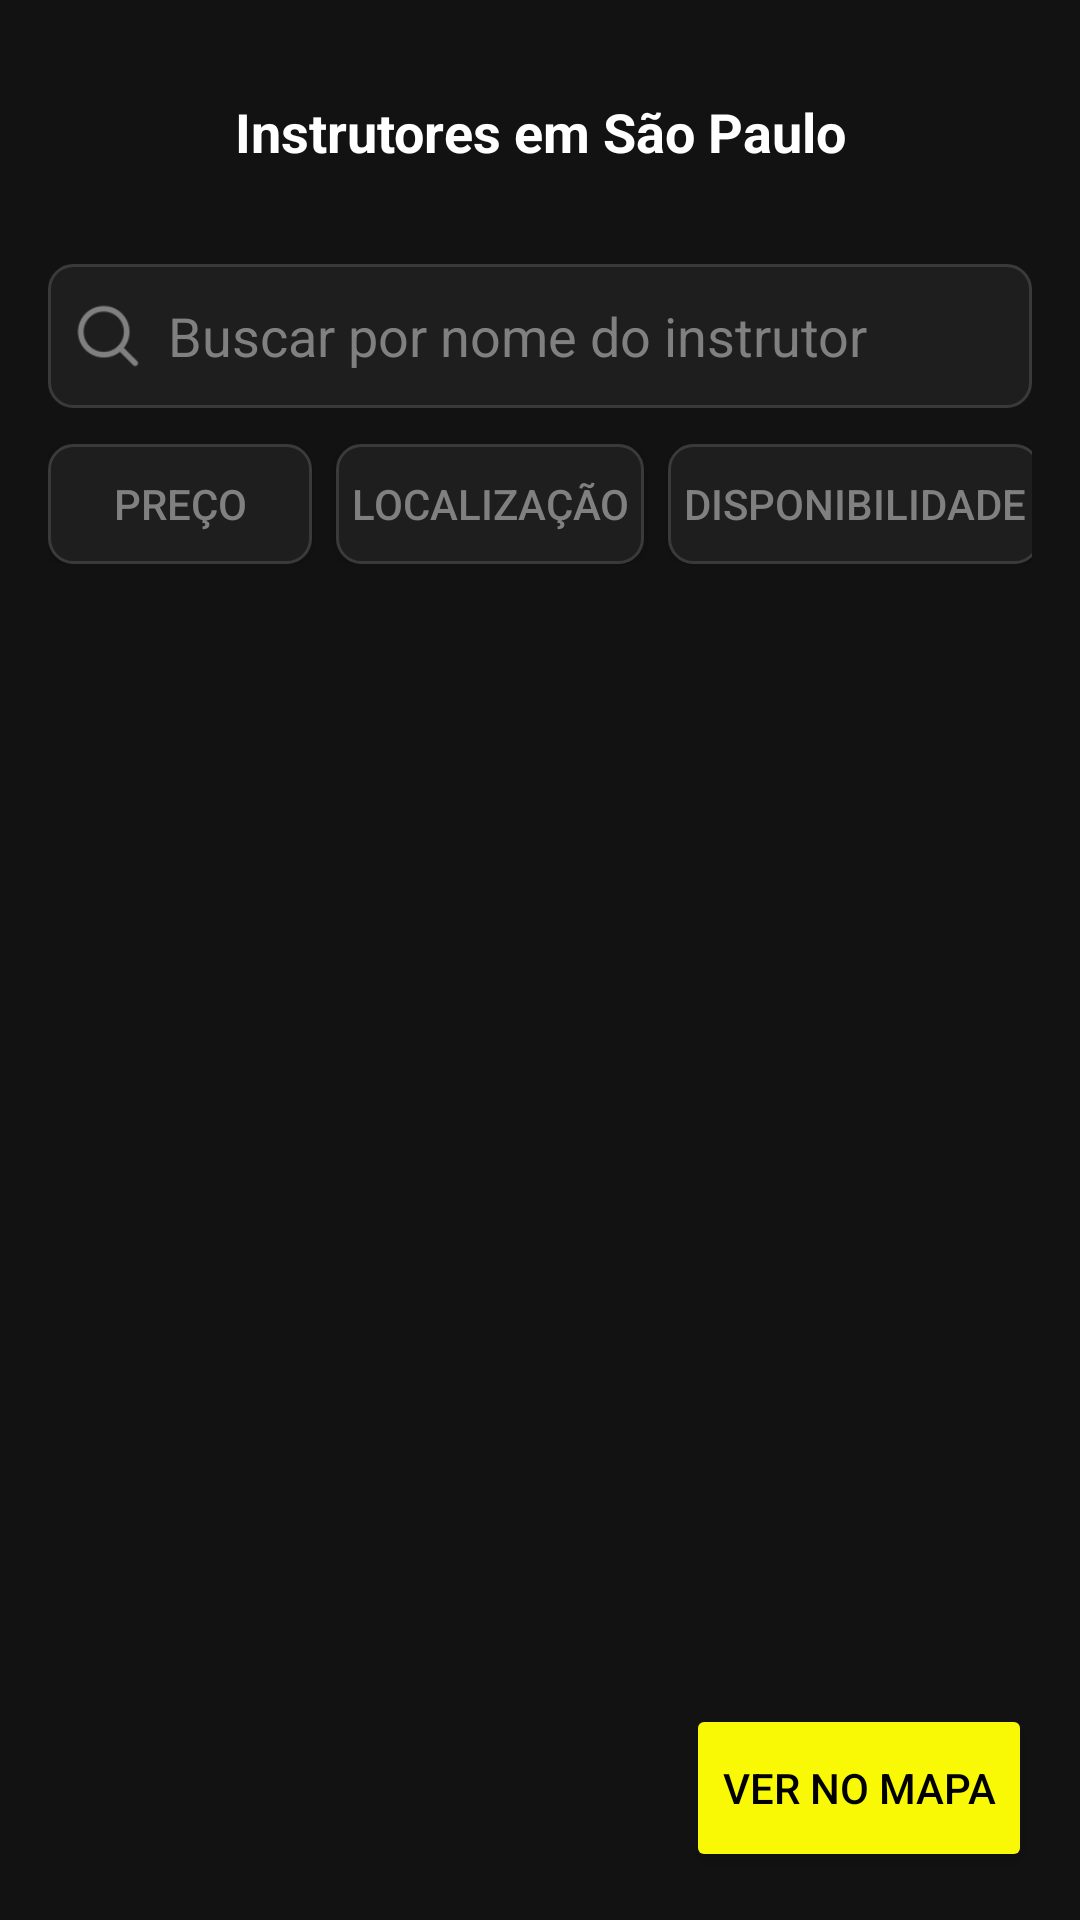

Icon click points for this 1080w x 1920h phone screenshot, format (x=x, y=y):
search: (x=108, y=336)
